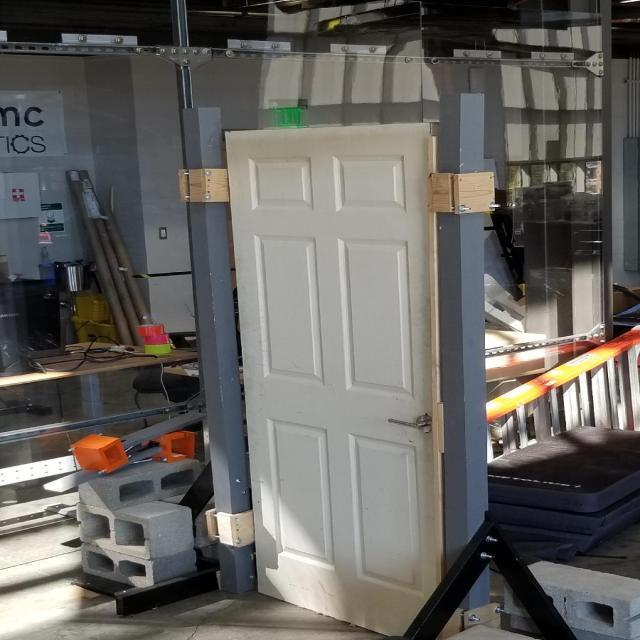door: (220, 121, 443, 640), (384, 413, 438, 437)
